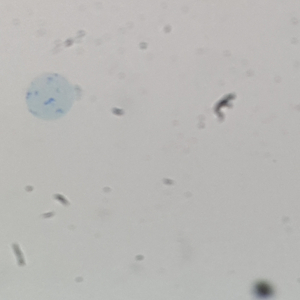aggregate reticulocyte: (24, 71, 74, 121)
